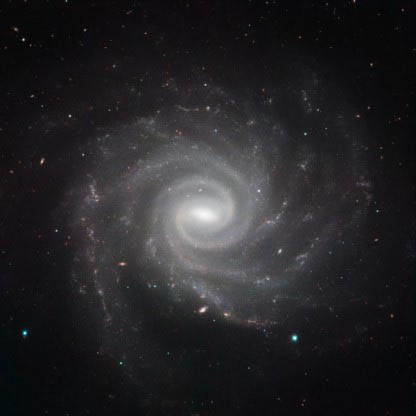NGC 1232: (29, 62, 386, 371)
